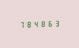eight: (24, 20, 30, 28), (39, 20, 45, 27)
four: (32, 20, 38, 28)
seven: (17, 20, 23, 28)
six: (46, 19, 52, 27)
three: (53, 19, 59, 27)
